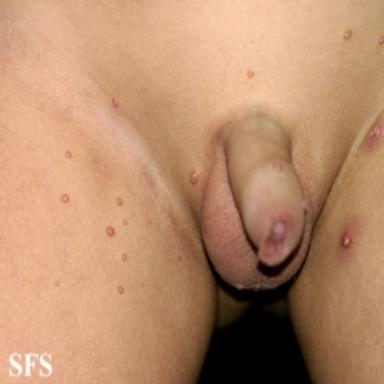Molluscum-Contagiosum: (362, 119, 384, 152), (342, 233, 352, 247), (190, 171, 199, 185), (273, 163, 283, 172), (343, 30, 353, 39), (61, 194, 69, 203), (107, 227, 115, 236), (112, 97, 119, 107), (115, 197, 123, 205), (247, 70, 254, 78), (118, 285, 124, 294), (121, 254, 127, 262), (176, 254, 181, 262), (379, 37, 384, 44), (66, 151, 71, 157), (122, 219, 127, 225)
